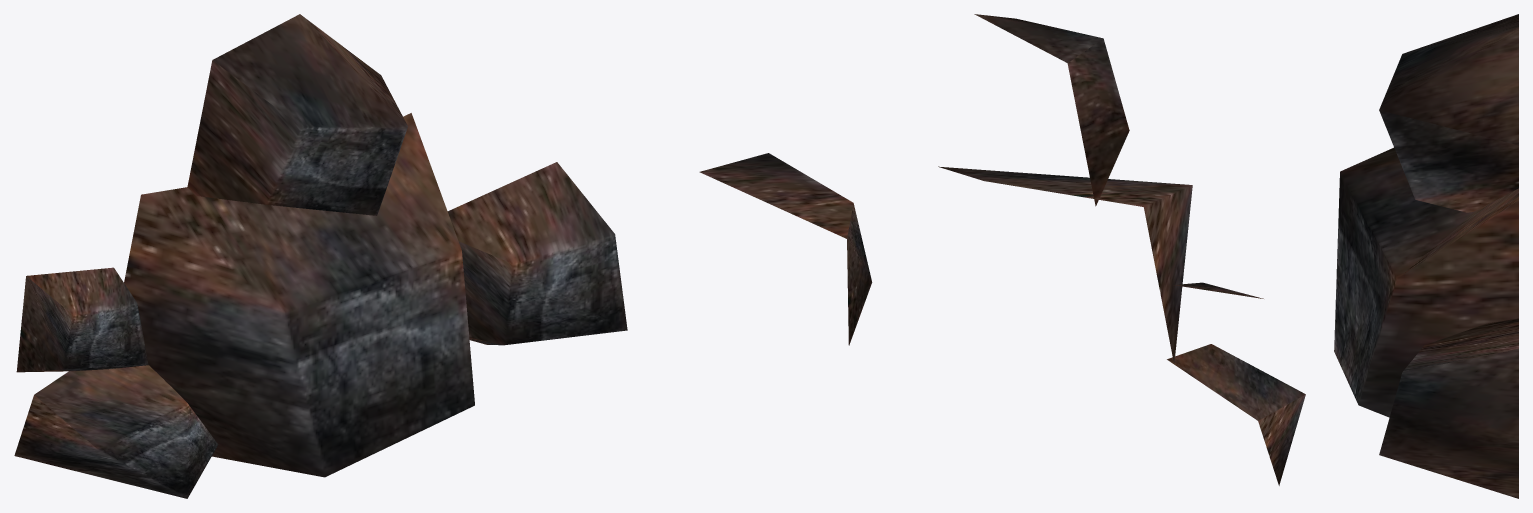
The picture shows the model from 3 angles, left to right: view 1: azimuth 30°, elevation 25°; view 2: azimuth 150°, elevation 25°; view 3: azimuth 270°, elevation 25°; orthographic projection. The views are drawn at different scales.
Parts seen in each view (by area): view 1: model_Object25; view 2: model_Object25; view 3: model_Object25.
Boxes of the visible parts, bbox=[...] form: model_Object25: bbox=[14, 14, 627, 498]; model_Object25: bbox=[699, 14, 1305, 485]; model_Object25: bbox=[1334, 14, 1518, 498].
Bounding box in the file's own units: 2.7 × 1.92 × 0.7834.
Materials: 1 (1 with a texture image).
